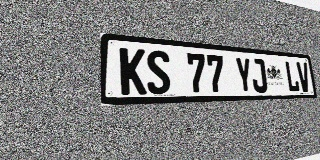7: (186, 53, 208, 94), (205, 54, 226, 93)
J: (250, 58, 268, 93)
K: (120, 48, 147, 95)
L: (284, 61, 300, 92)
S: (146, 50, 171, 94)
V: (296, 62, 311, 92)
Y: (234, 57, 253, 93)
